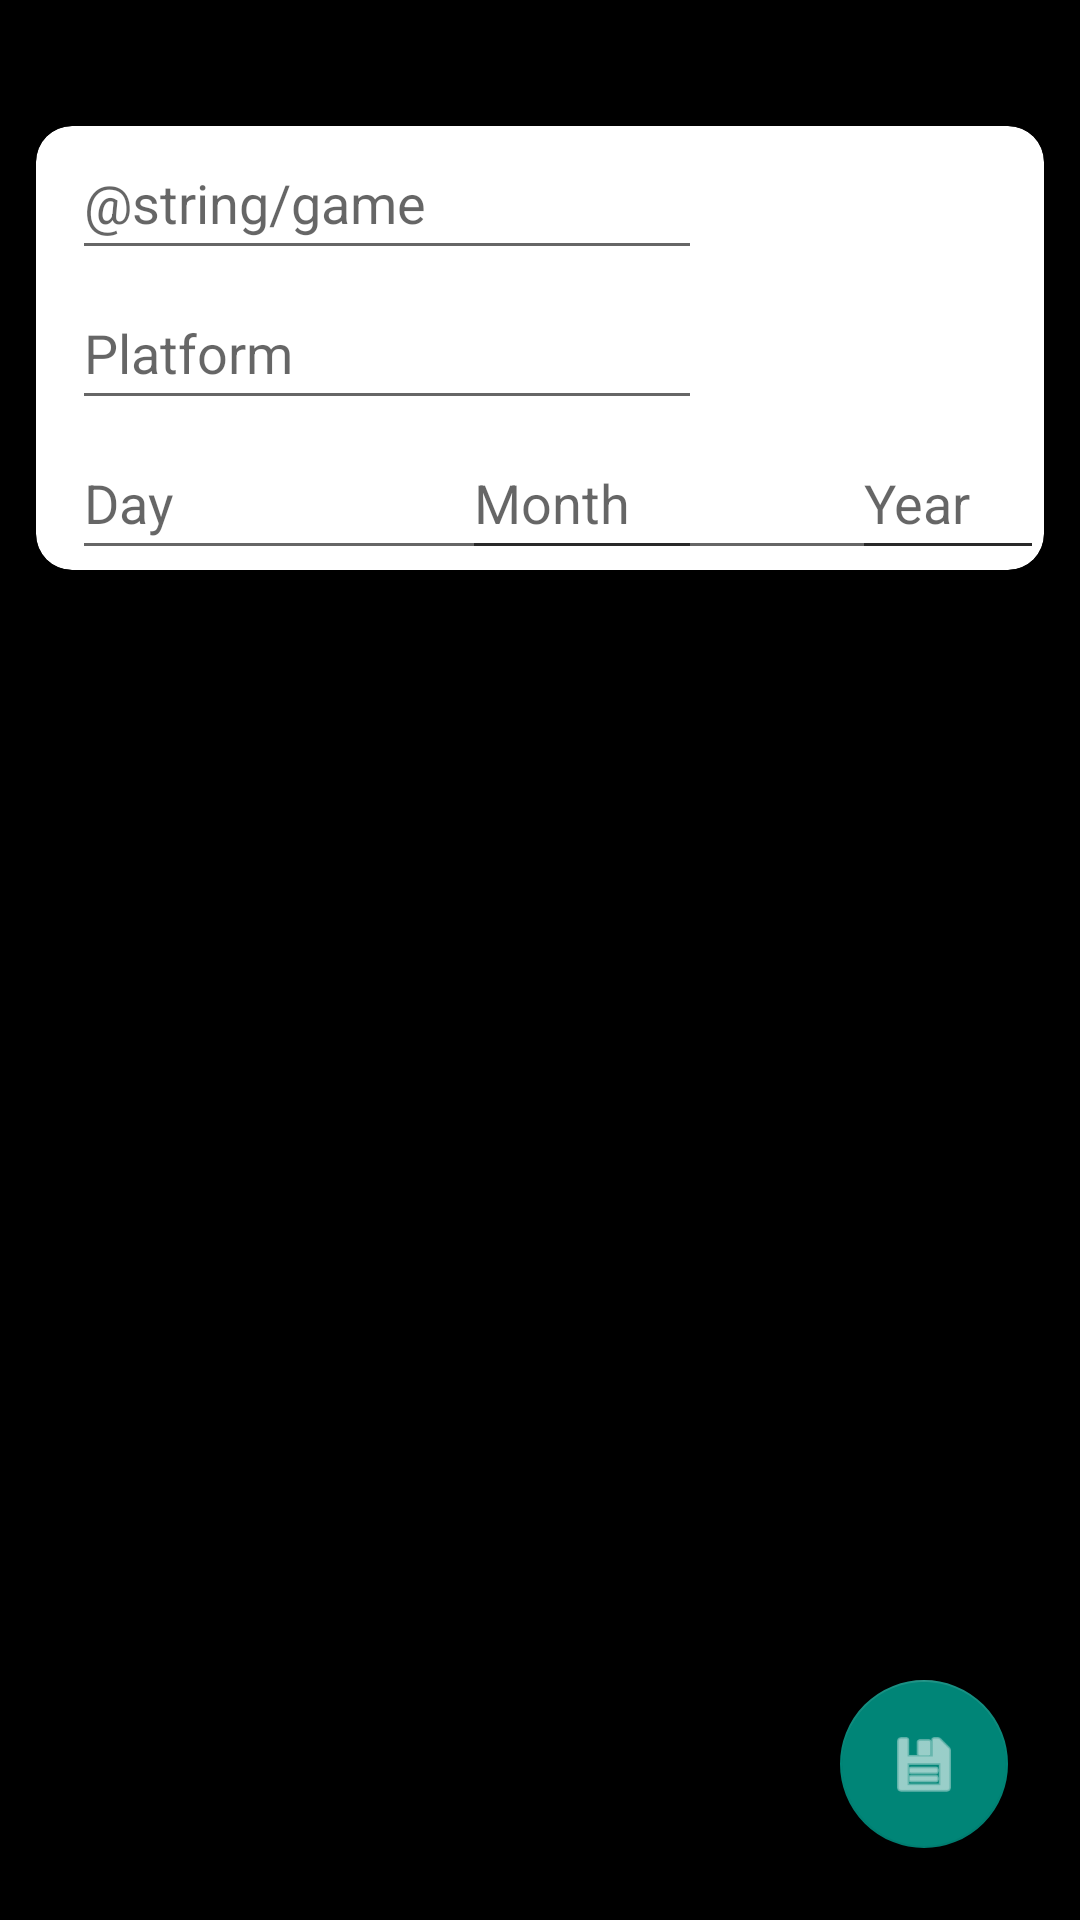

Locate icon controls on the screen. Image size 1080 × 1920, boxes as (x1,y1,x2,y2).
Save Icon: (840,1680,1008,1848)
